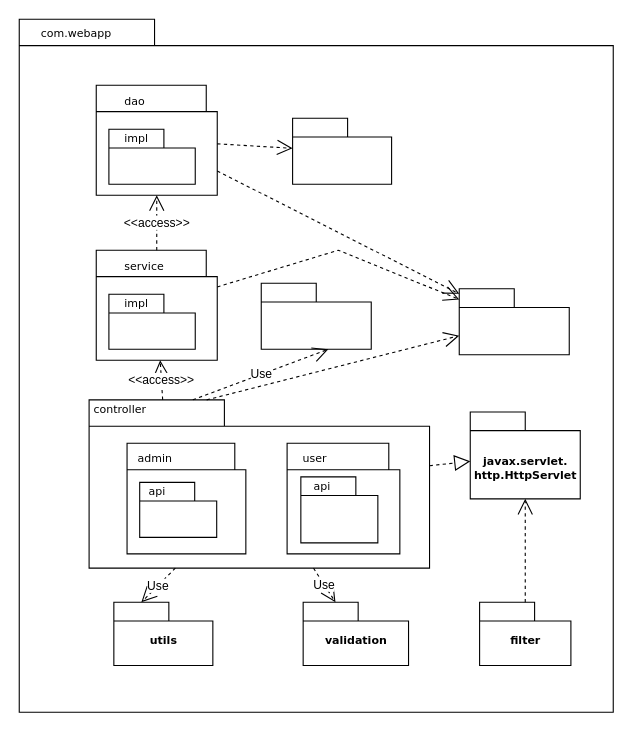
Image size: 633x732. Some labels were removed from this diagram. The centre of each missing label's shape, as x and y in pixels:
Constant: [315,315]
mapper: [342,150]
model: [513,321]
